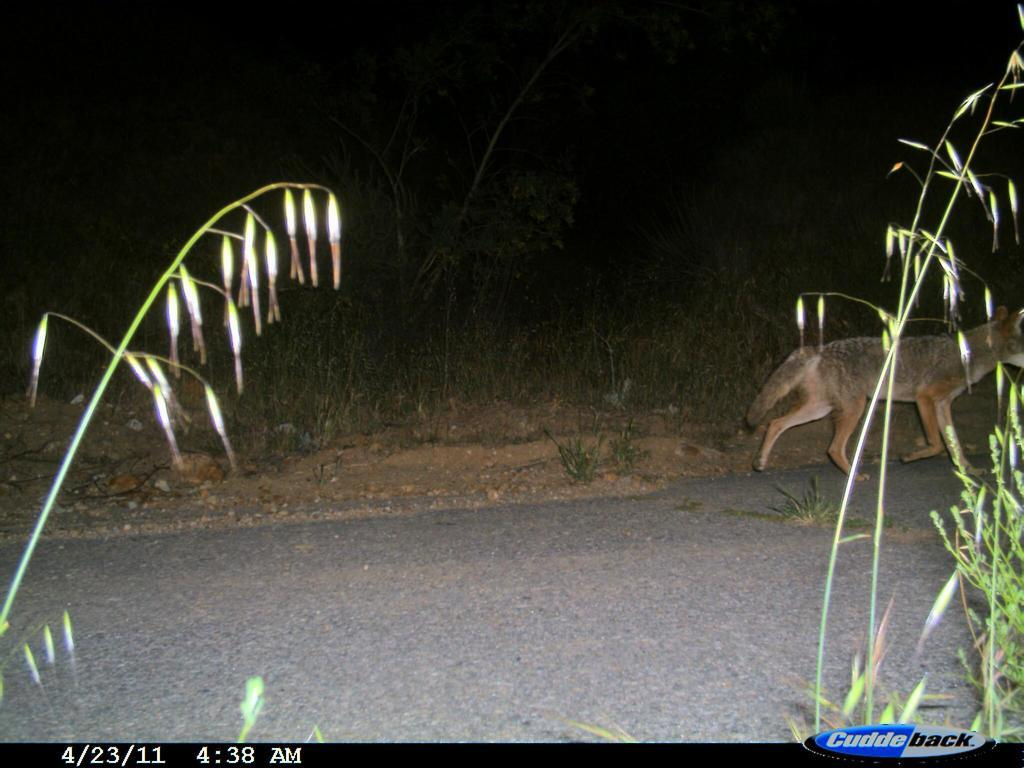coyote: (734, 301, 1023, 486)
